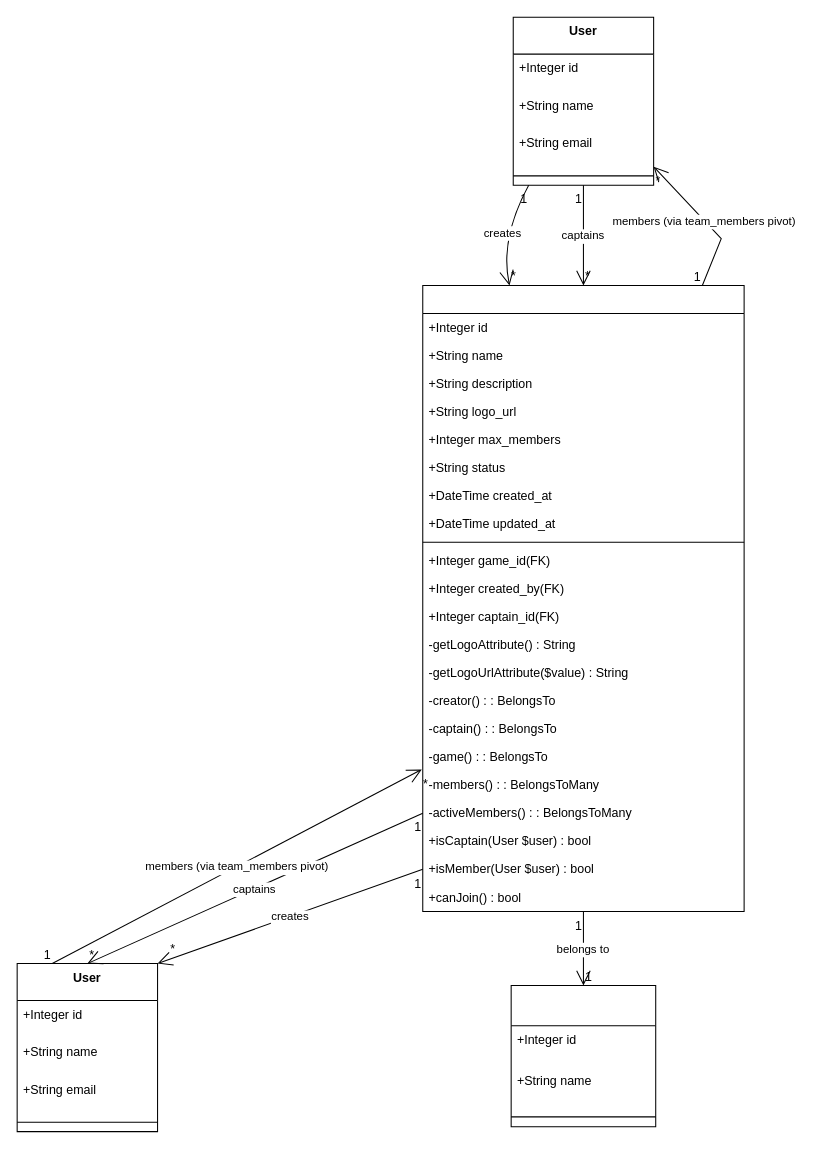
This 814x1149 diagram has some shape labels left out. Each missing label, with the box of its shape:
Game: (510, 984, 656, 1127)
Team: (422, 284, 744, 911)
